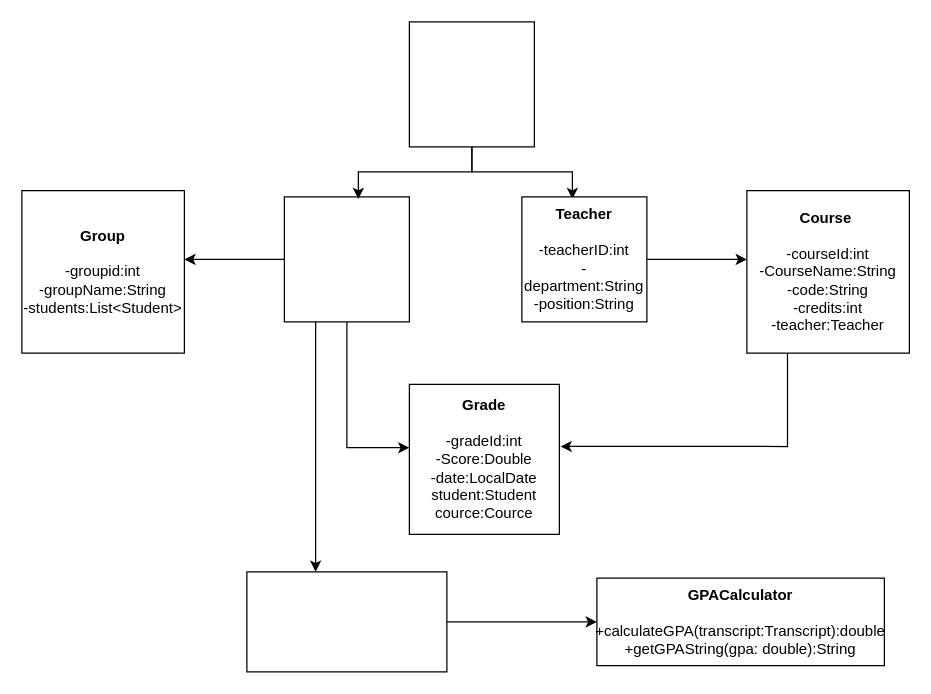
Image size: 931x694. Some labels were removed from this diagram. The shapes that lost their labels are listed below. From the top down, each one's centre as x and y in pixels, then its label:
At (471,84): "Person -id:int -name:String -age:int -email:String".
At (346,259): "Student -StudentID:int -group:Group -enrollmentYear".
At (346,621): "Transcript -transcriptId:int -student:Student -grades:List<Grade>".
